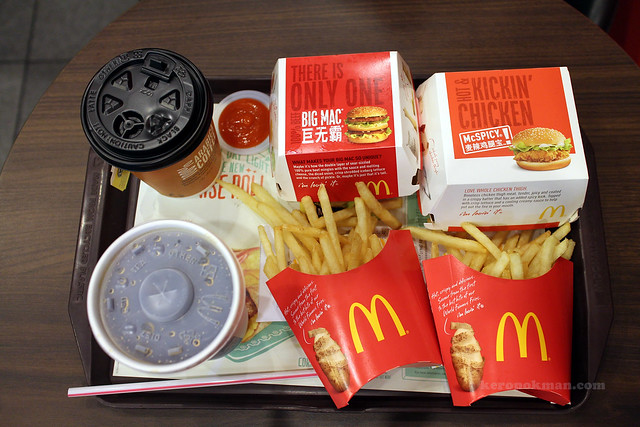burger: (417, 61, 595, 229), (265, 51, 421, 205)
drinks: (76, 221, 251, 376), (75, 57, 225, 202)
fries: (257, 213, 443, 410), (421, 229, 577, 413)
